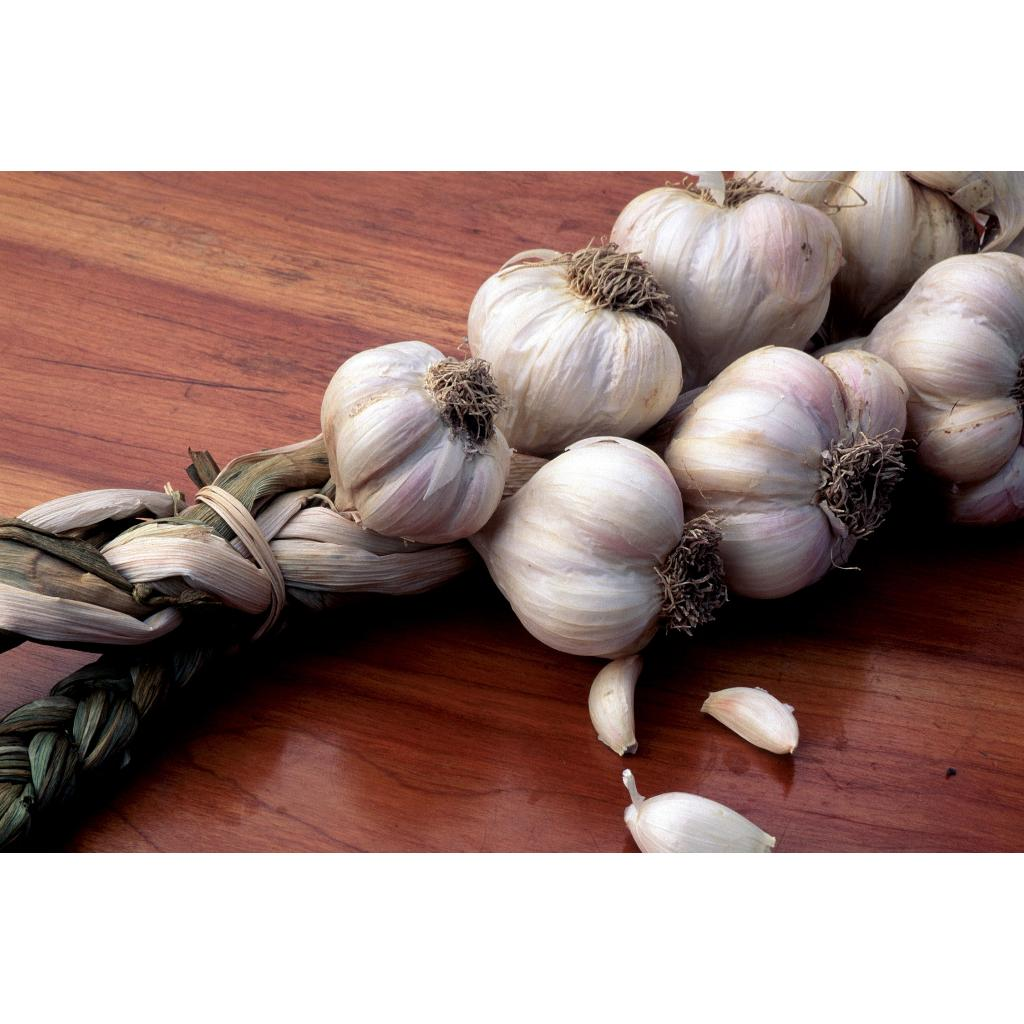garlic: (664, 346, 907, 598), (469, 436, 683, 658), (610, 186, 841, 389), (467, 243, 681, 455), (862, 252, 1023, 525), (321, 341, 511, 543), (622, 769, 775, 853), (699, 685, 800, 756), (701, 687, 798, 754), (588, 655, 642, 755)
